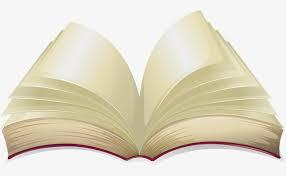Paper: (8, 12, 286, 176)
